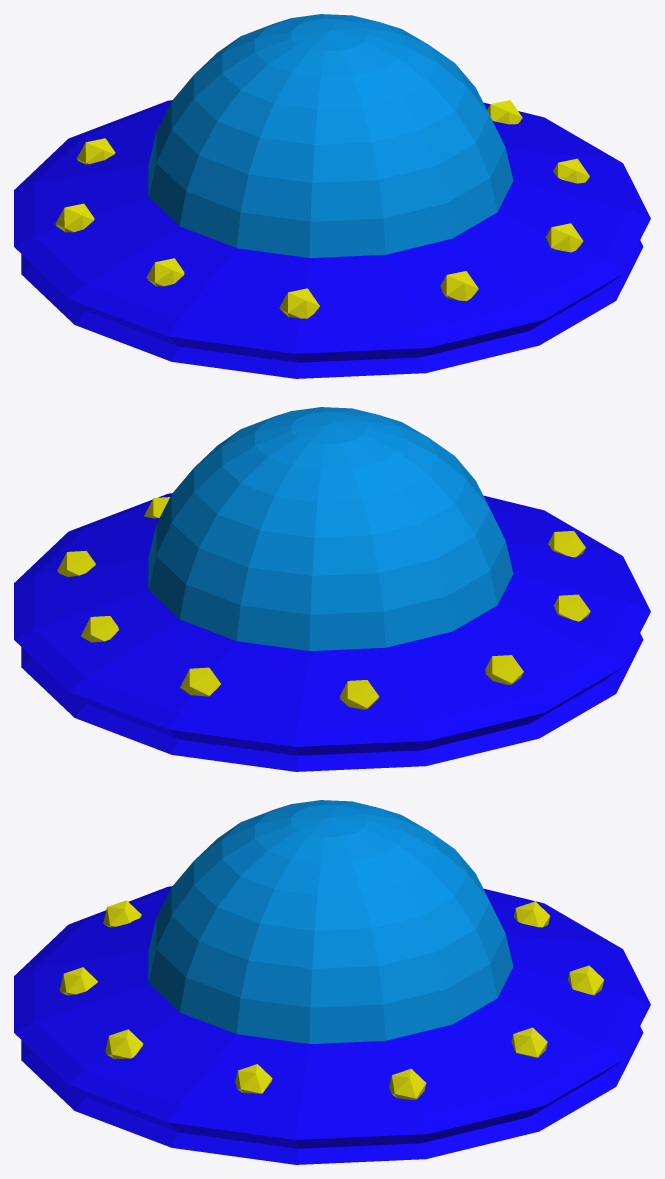
The model's file is NavAlien.fbx.
3 renders of one model, top to bottom at view 1: azimuth 30°, elevation 25°; view 2: azimuth 150°, elevation 25°; view 3: azimuth 270°, elevation 25°, orthographic.
Visible parts, largest first — view 1: Circle, Sphere; view 2: Circle, Sphere; view 3: Circle, Sphere.
Part boxes in pixels (left/top/right/bottom): Circle: left=14, top=100, right=650, bottom=378; Sphere: left=148, top=14, right=513, bottom=257; Circle: left=14, top=493, right=650, bottom=771; Sphere: left=148, top=407, right=513, bottom=650; Circle: left=14, top=886, right=650, bottom=1164; Sphere: left=148, top=800, right=513, bottom=1043.
Size of the model in its own units: 213 by 92.78 by 212.
